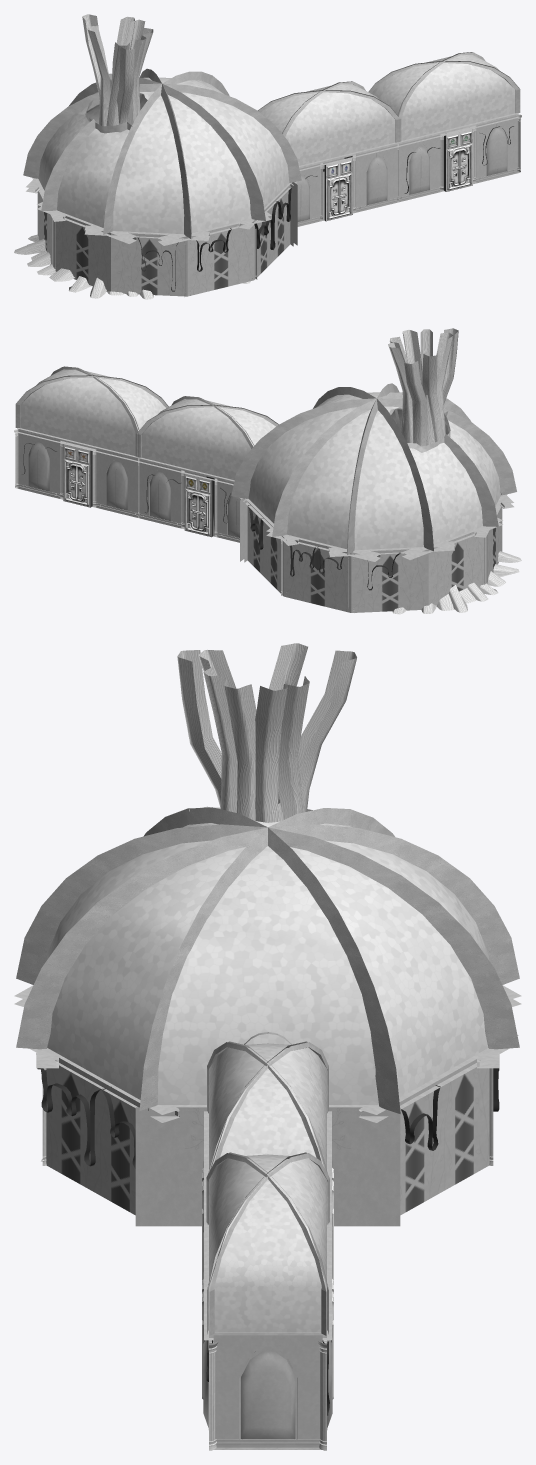
File: mapselect.fbx
3 renders of one model, top to bottom at view 1: azimuth 30°, elevation 25°; view 2: azimuth 150°, elevation 25°; view 3: azimuth 270°, elevation 25°, orthographic. The views are drawn at different scales.
Visible parts, largest first — view 1: selectmap, door01_r, door03_r, door01_l, door03_l; view 2: selectmap, door04_r, door02_r, door02_l, door04_l; view 3: selectmap.
Boxes of the visible parts, box(x1,y1,x2,y2) form: selectmap: box(14, 14, 521, 299); door01_r: box(324, 161, 339, 221); door03_r: box(444, 132, 459, 191); door01_l: box(339, 158, 352, 217); door03_l: box(459, 129, 472, 188); selectmap: box(14, 328, 521, 614); door04_r: box(76, 447, 92, 507); door02_r: box(197, 477, 212, 537); door02_l: box(184, 473, 198, 533); door04_l: box(63, 444, 76, 504); selectmap: box(14, 643, 521, 1450).
Size of the model in its own units: 10366 by 4897 by 5155.
